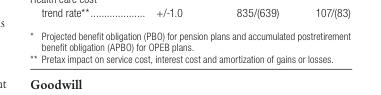table: (29, 29, 349, 63)
table column: (38, 29, 349, 63), (29, 29, 38, 63)
table row: (29, 29, 349, 46), (29, 46, 349, 63)
table spanning cell: (38, 29, 349, 63)
